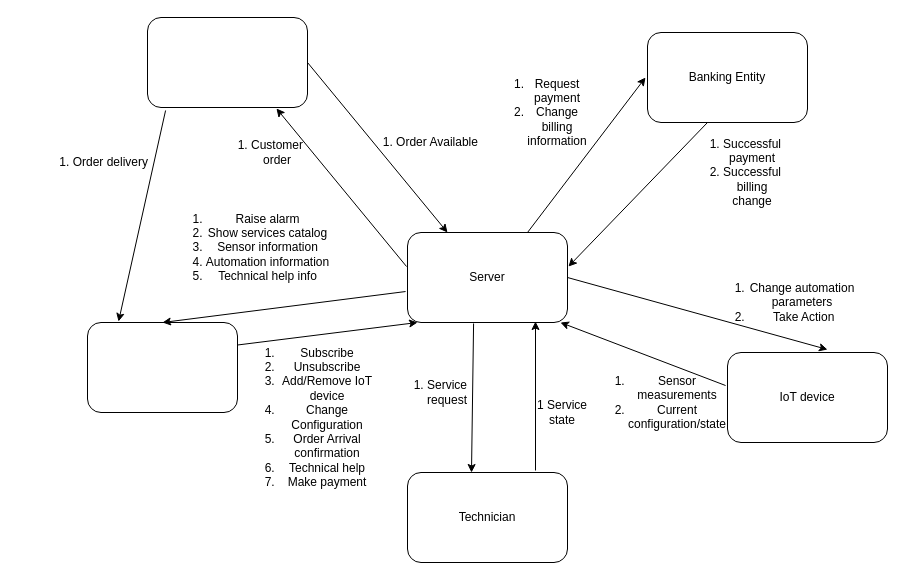
The diagram is 905 pixels wide and 580 high, and some of its shapes have lost their labels. Each missing label, with the box of its shape:
Customer: (86, 322, 238, 412)
Supermarket: (146, 16, 308, 108)
